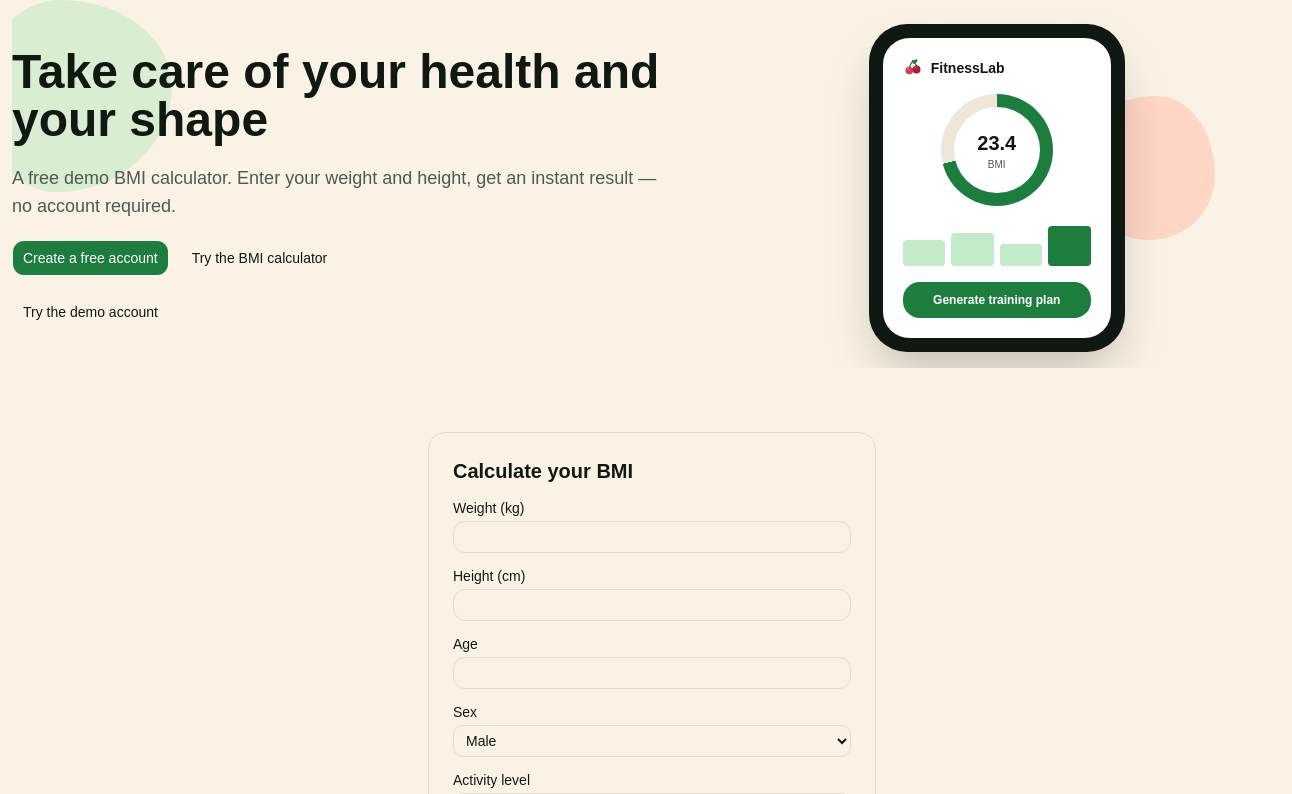
LandingPage › shows an error message when the demo login fails
The width and height of the screenshot is (1292, 794).
Click the button "Try the demo account".
click(90, 312)  # box [12,296,169,328]
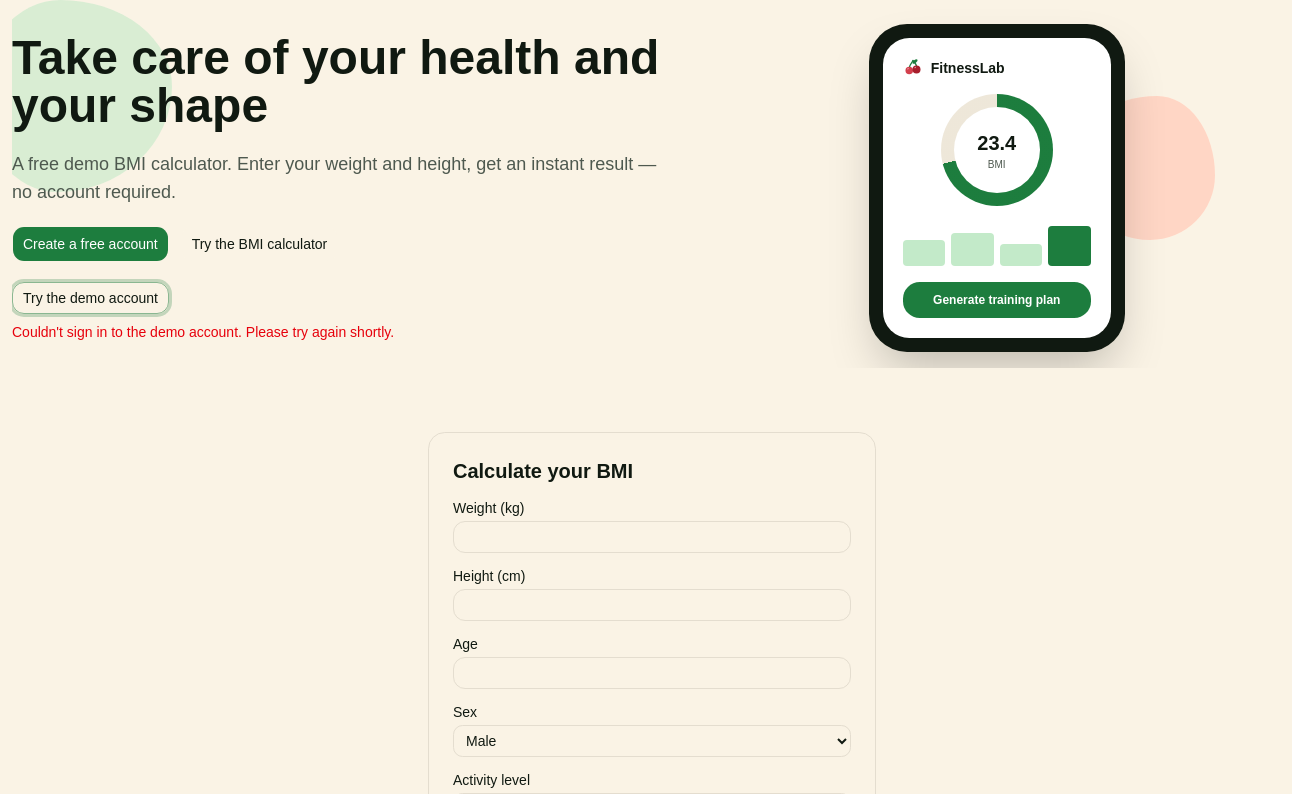
Expected: the text "Couldn't sign in" is shown, [12,324,394,340]
